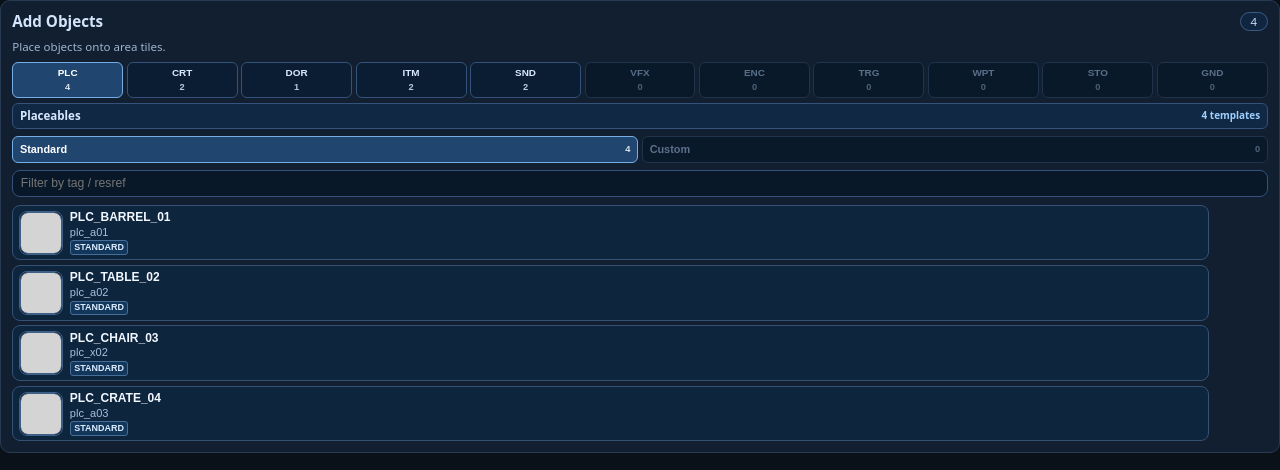
Test: SceneObjectAddPanel › shows add-object result counts and clears search filters locally
This screenshot has width=1280, height=470.
Type "table" into the search field named "filter objects" at (640, 183), box [12, 170, 1268, 197]
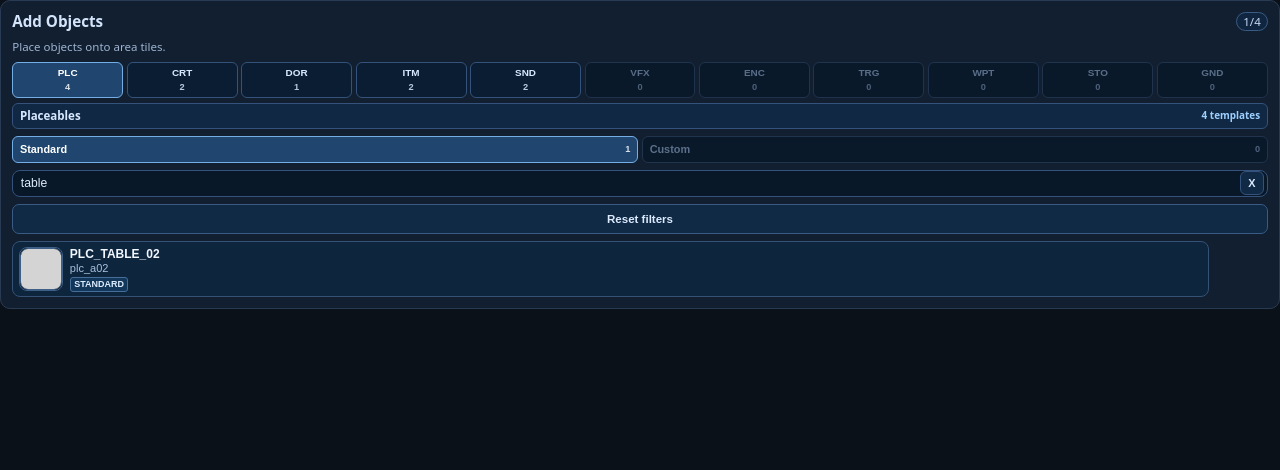
Expected: the text "PLC_TABLE_02" is shown, [70, 247, 160, 261]
Result: the text "1/4" is shown at [1236, 12, 1268, 31]
Result: the button "PLC_BARREL_01" is gone
Click the button named "clear add objects filter" at (1252, 184), box [1240, 172, 1264, 196]
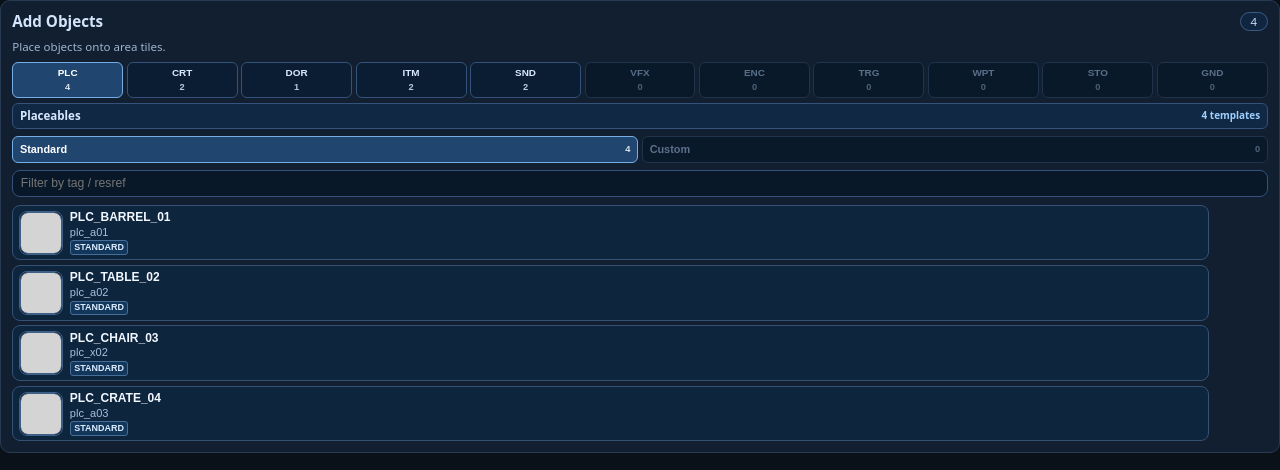
Result: the search field named "filter objects" is empty at [12, 170, 1268, 197]
Result: the text "1/4" is gone
Result: the text "PLC_BARREL_01" is shown at [70, 210, 170, 224]
